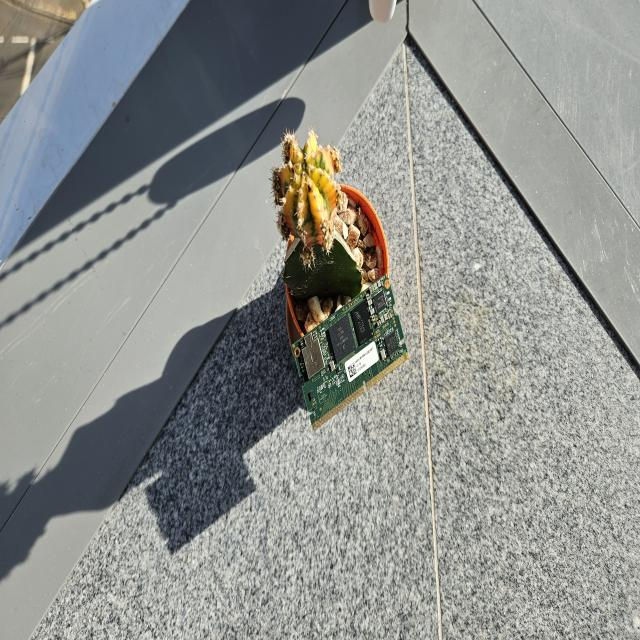som: (276, 273, 414, 435)
